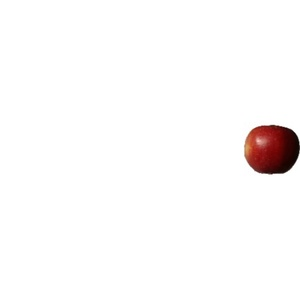maçã braeburn: (244, 124, 295, 175)
